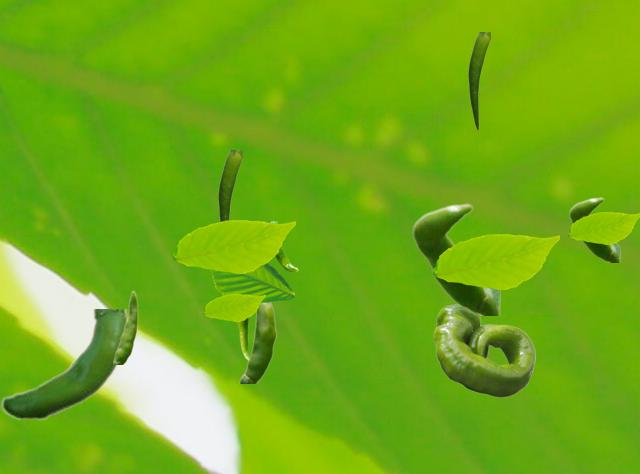green_chili: (0, 309, 127, 420), (412, 203, 499, 314), (433, 304, 534, 396), (569, 197, 619, 261), (239, 303, 276, 382), (468, 32, 489, 129), (113, 290, 137, 363), (218, 150, 241, 220), (268, 221, 297, 271), (236, 318, 248, 359)
